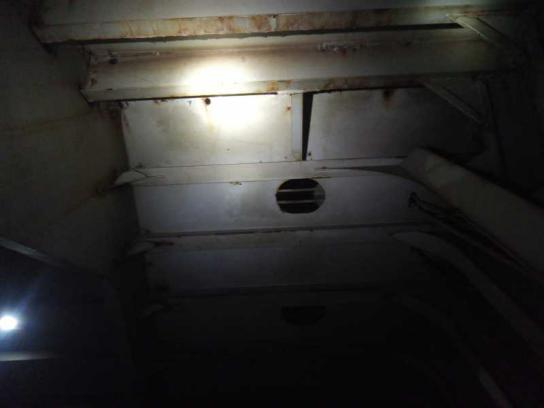corrosion: (245, 9, 335, 38), (102, 38, 179, 66), (189, 9, 234, 38), (373, 85, 415, 114), (313, 74, 347, 96), (264, 75, 287, 94)
